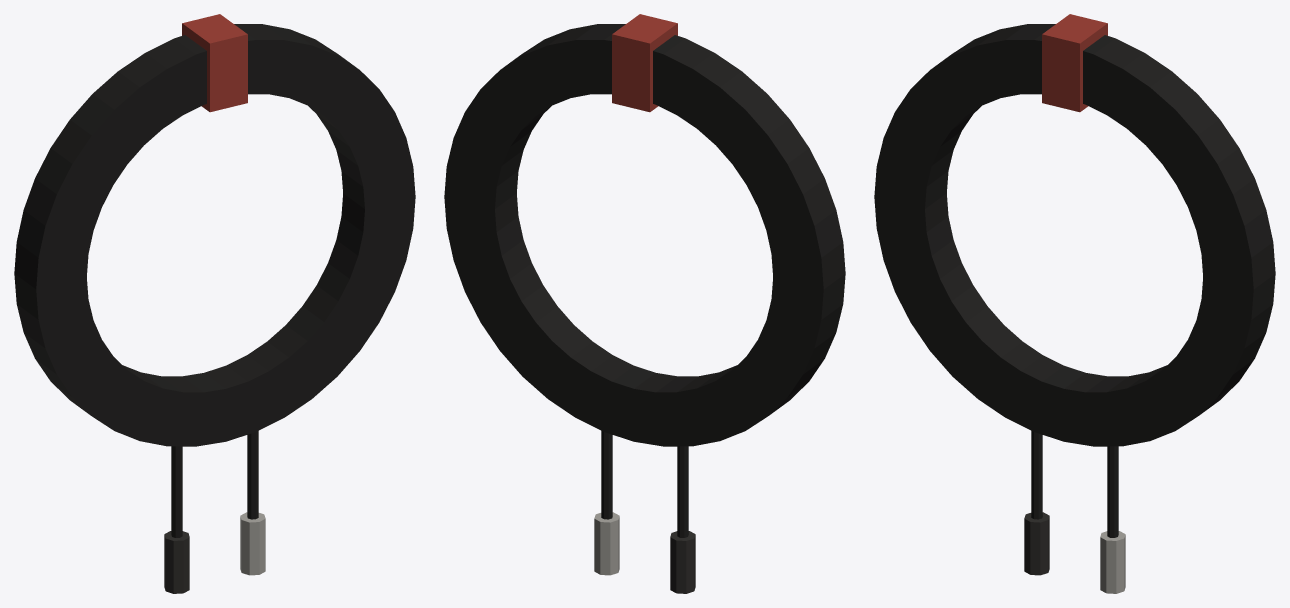
The model's file is cable-coil-large-cloth.glb.
3 renders of one model, left to right at view 1: azimuth 30°, elevation 25°; view 2: azimuth 150°, elevation 25°; view 3: azimuth 330°, elevation 25°, orthographic.
Visible parts, largest first — view 1: rubber, accent-warm, brushed, plastic-dark; view 2: rubber, accent-warm, brushed, plastic-dark; view 3: rubber, accent-warm, plastic-dark, brushed.
Boxes of the visible parts, box(x1,y1,x2,y2) form: rubber: box(14, 24, 415, 537); accent-warm: box(182, 14, 247, 112); brushed: box(240, 512, 265, 575); plastic-dark: box(164, 531, 189, 593); rubber: box(444, 24, 845, 537); accent-warm: box(612, 14, 677, 112); brushed: box(594, 512, 619, 575); plastic-dark: box(670, 531, 695, 593); rubber: box(874, 24, 1275, 537); accent-warm: box(1042, 14, 1107, 112); plastic-dark: box(1024, 512, 1049, 575); brushed: box(1100, 531, 1125, 593).
Size of the model in its own units: 0.3 by 0.416 by 0.038.
